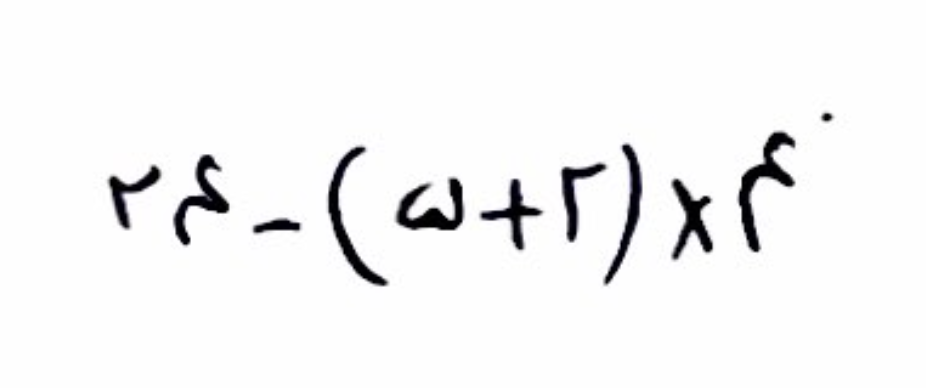character: (325, 145, 392, 287), (737, 130, 798, 256), (605, 139, 645, 285), (477, 179, 546, 252), (177, 154, 228, 244), (392, 177, 469, 234), (558, 158, 609, 242), (669, 178, 720, 259), (107, 162, 163, 223), (249, 214, 311, 233)
